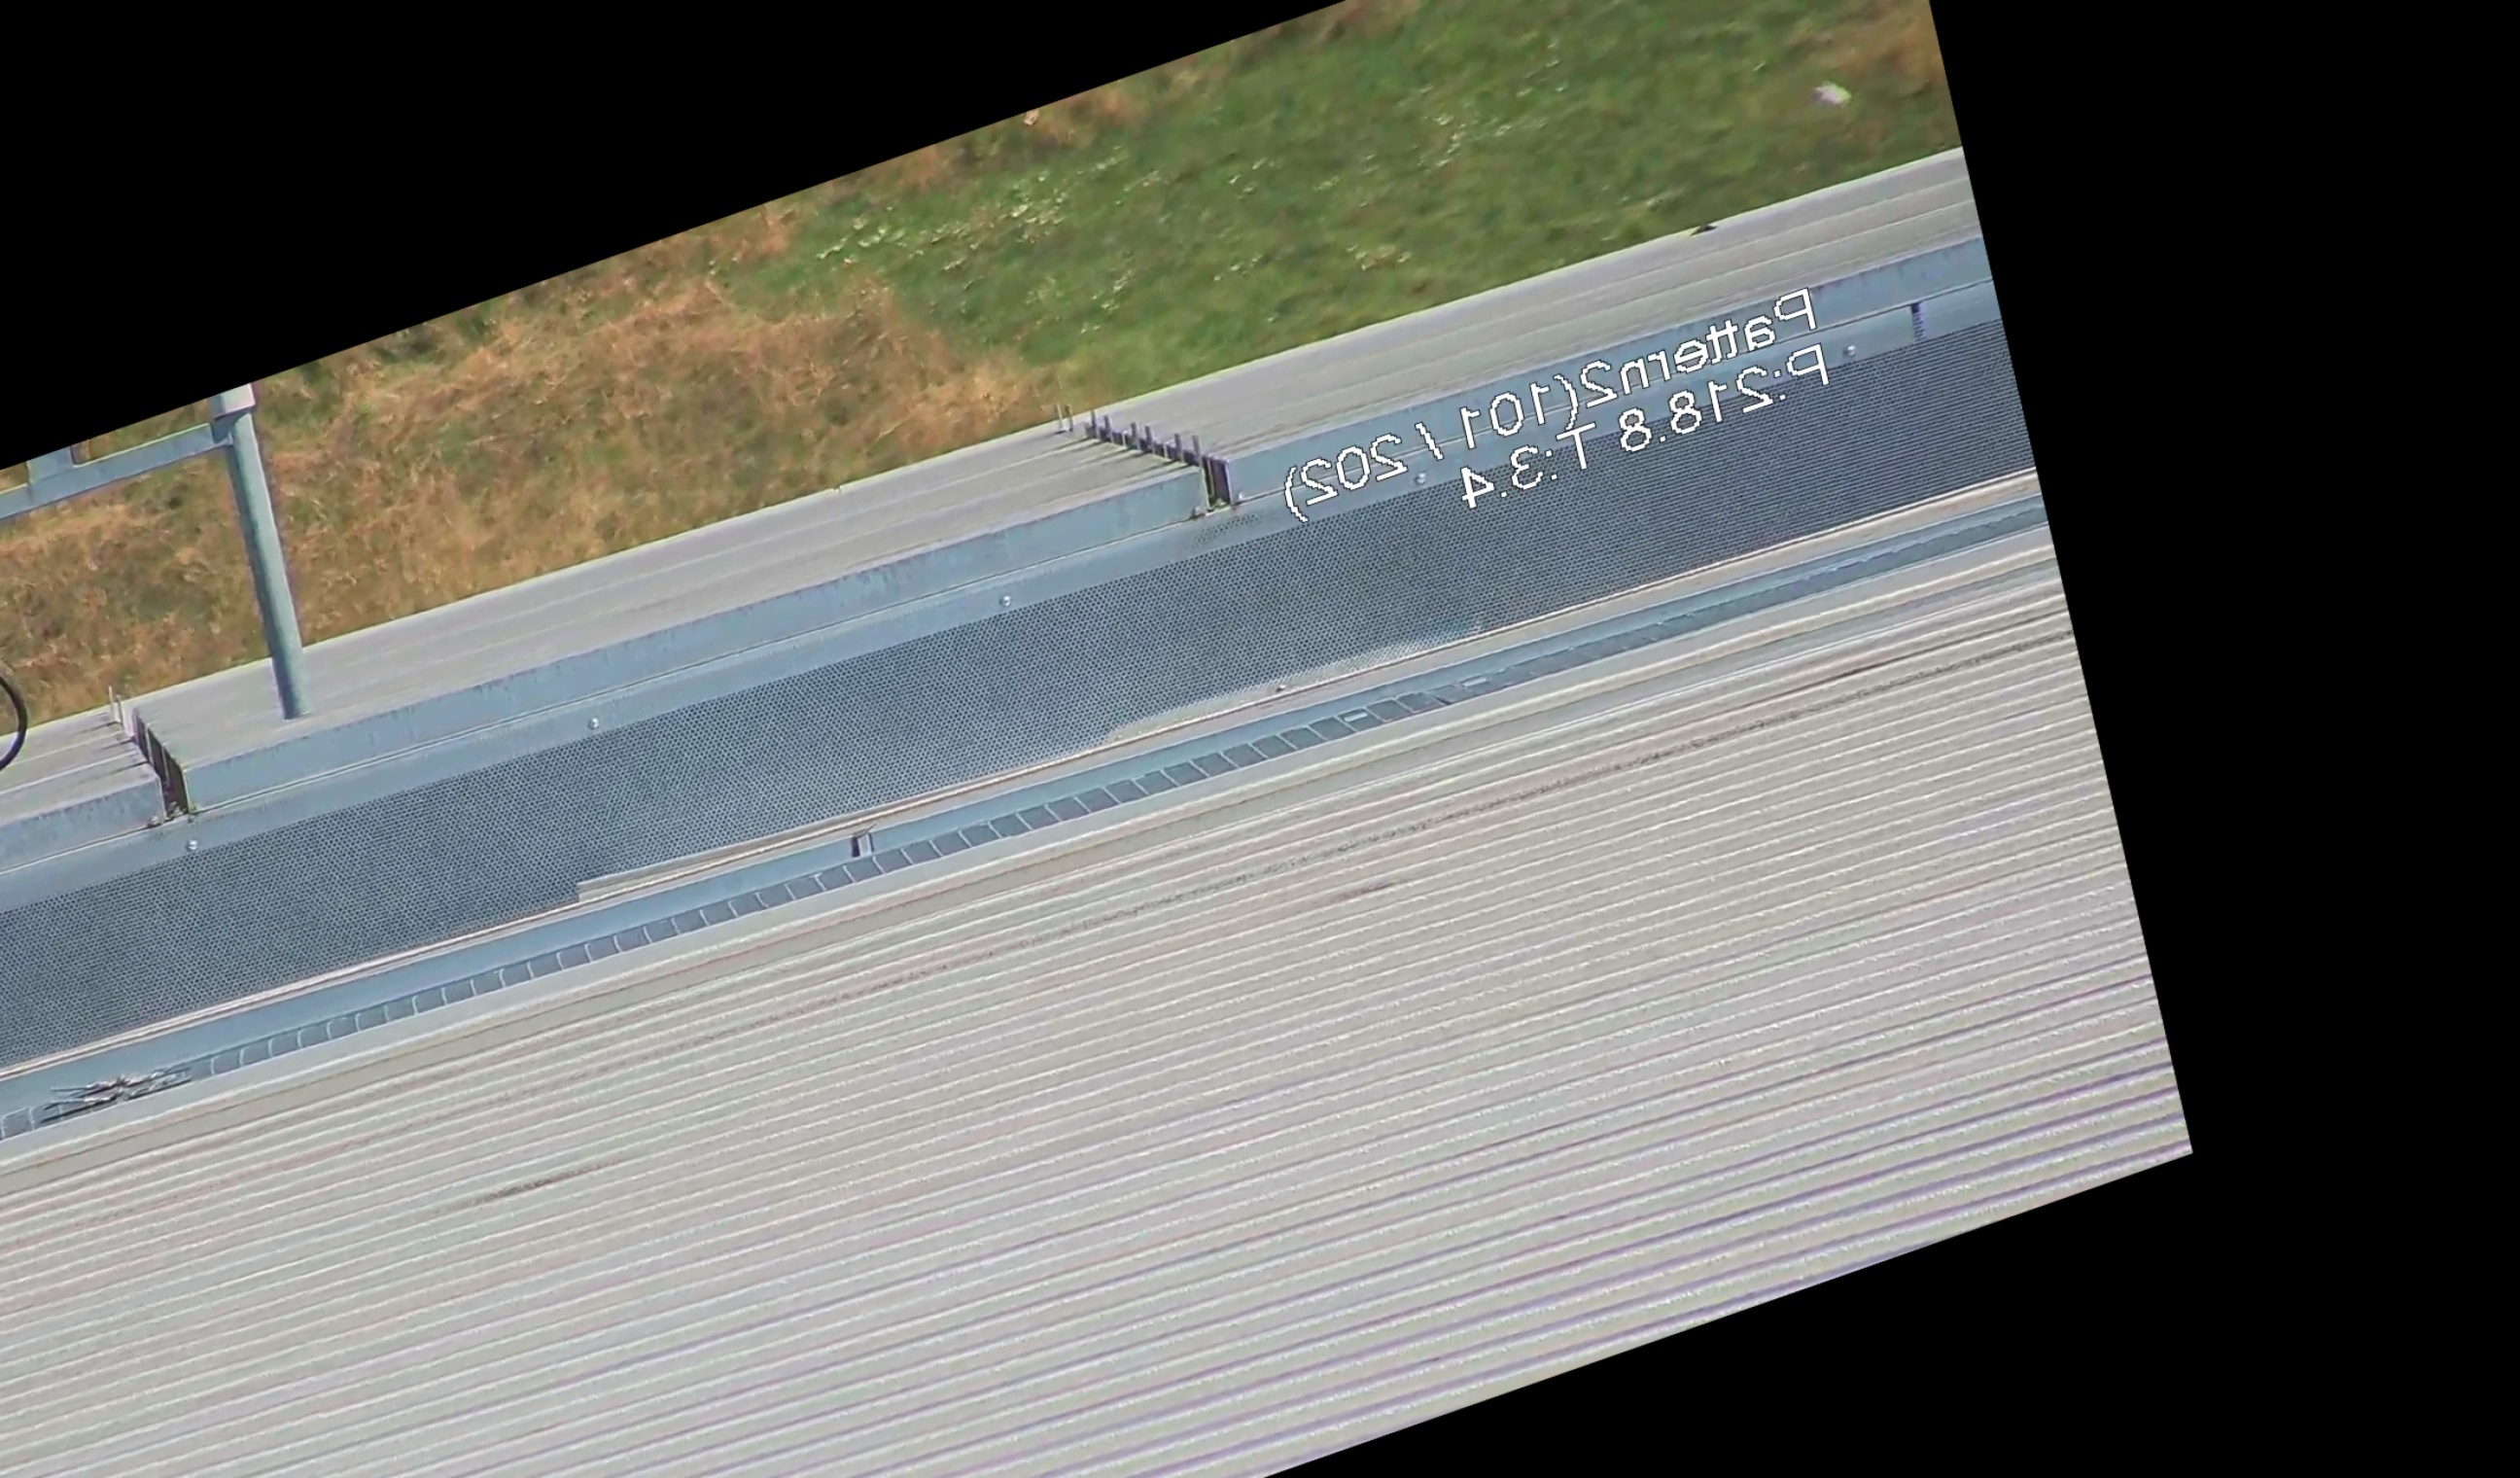Other: (93, 681, 204, 845)
